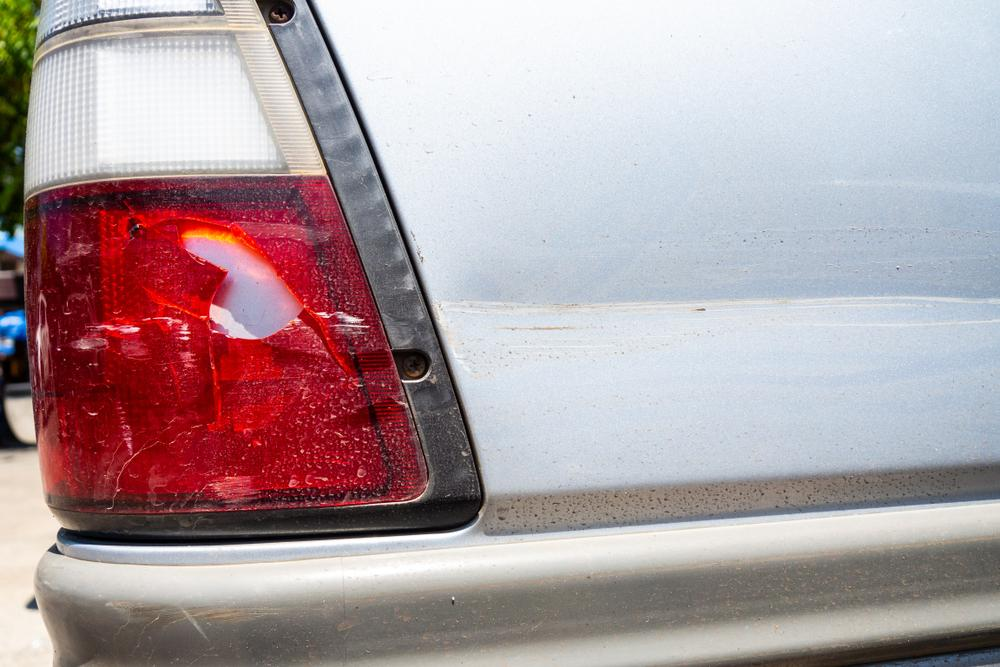lamp broken: (23, 0, 428, 514)
scratch: (429, 286, 1000, 375)
